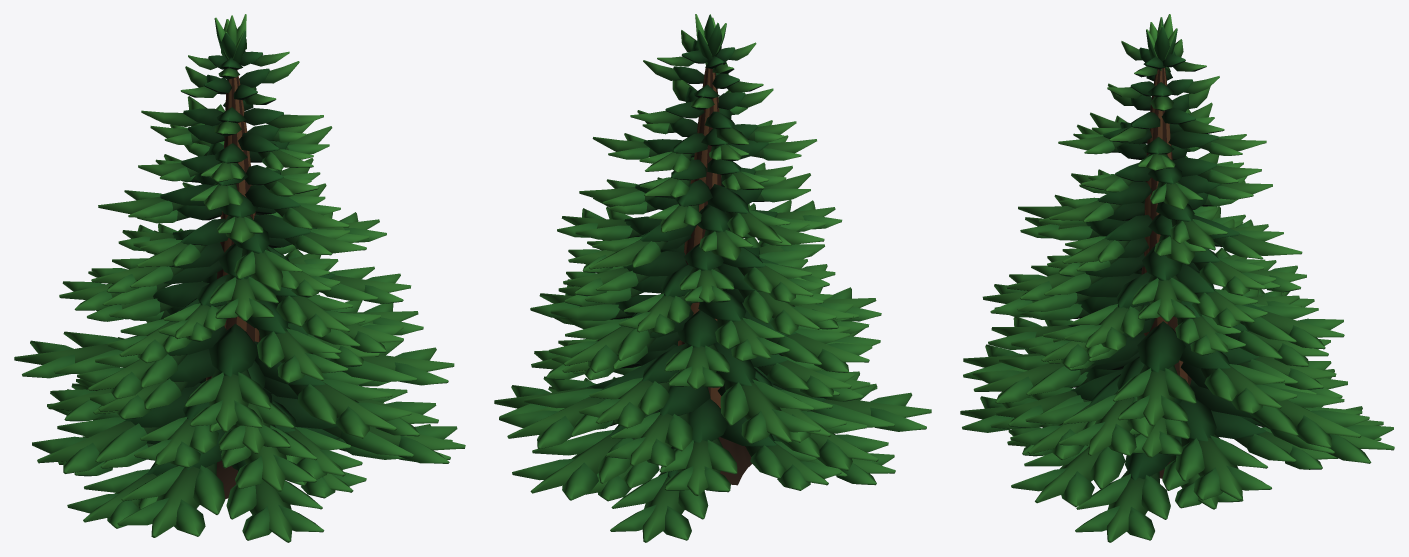
File: tree_spruce_broad.glb
The picture shows the model from 3 angles, left to right: view 1: azimuth 30°, elevation 25°; view 2: azimuth 150°, elevation 25°; view 3: azimuth 270°, elevation 25°; orthographic projection. The views are drawn at different scales.
Parts seen in each view (by area): view 1: tree_spruce_needles, tree_spruce_trunk; view 2: tree_spruce_needles, tree_spruce_trunk; view 3: tree_spruce_needles, tree_spruce_trunk.
Boxes of the visible parts, <box> form: tree_spruce_needles: <box>14,14,465,542</box>; tree_spruce_trunk: <box>206,70,260,498</box>; tree_spruce_needles: <box>494,14,931,542</box>; tree_spruce_trunk: <box>678,65,751,485</box>; tree_spruce_needles: <box>960,14,1394,542</box>; tree_spruce_trunk: <box>1141,68,1191,478</box>.
Bounding box in the file's own units: 7.32 × 8.62 × 7.63.
